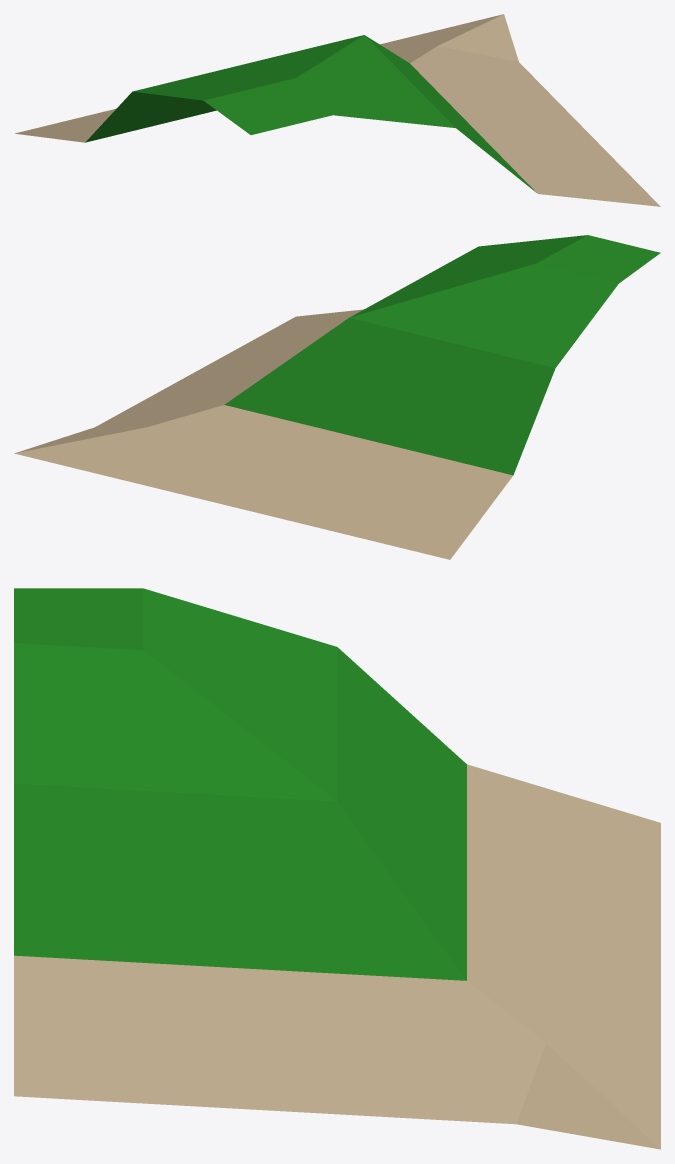
File: Hilly_Terrain_Path_Corner_Y_2x2.obj
The picture shows the model from 3 angles, top to bottom: view 1: azimuth 30°, elevation 25°; view 2: azimuth 150°, elevation 25°; view 3: azimuth 270°, elevation 25°; orthographic projection. The views are drawn at different scales.
Visible parts, largest first — view 1: object1; view 2: object1; view 3: object1.
Boxes of the visible parts, x1,y1,x2,y2 form: object1: (15,14,660,206); object1: (14,235,660,559); object1: (14,588,660,1149).
Size of the model in its own units: 0.5974 by 0.2 by 0.5.
